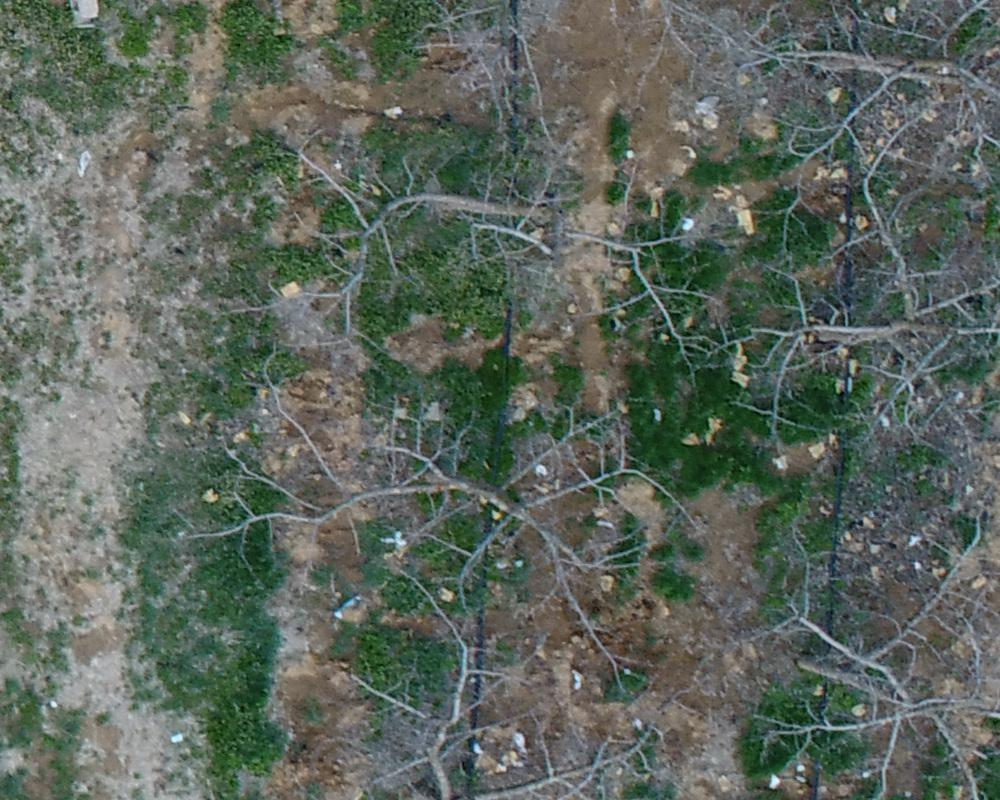apple: (157, 40, 625, 401), (120, 367, 666, 667), (732, 155, 990, 464), (714, 10, 990, 258), (752, 507, 990, 790), (318, 614, 680, 790)
